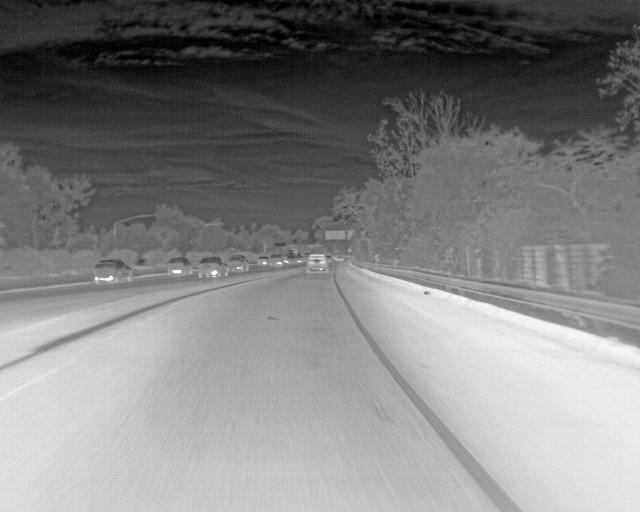car: (92, 258, 135, 284), (196, 256, 227, 277), (223, 254, 250, 273), (166, 257, 193, 275), (306, 253, 329, 274), (284, 253, 304, 267), (269, 253, 284, 267), (257, 255, 271, 267)
